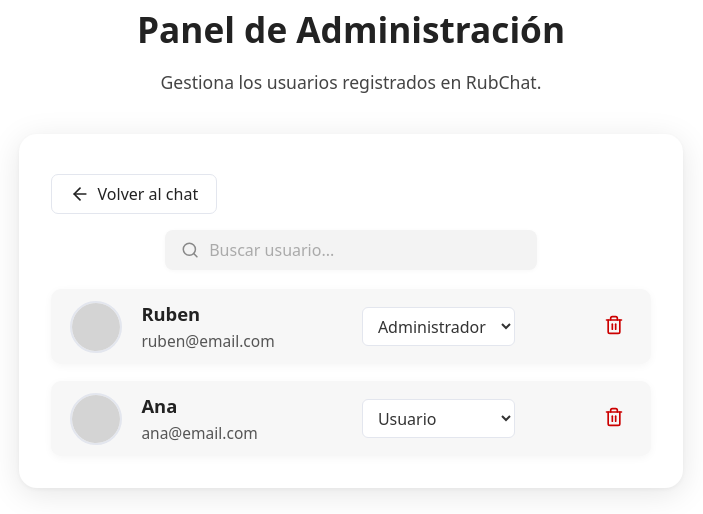
Test: AdminPage › filtra usuarios por nombre y muestra mensaje si no hay resultados
Expected: the text "Ruben" is shown, [141,302,200,326]
Type "ana" into the field with placeholder "Buscar usuario...".
click(364, 250); type("ana")  # box [207,238,521,262]
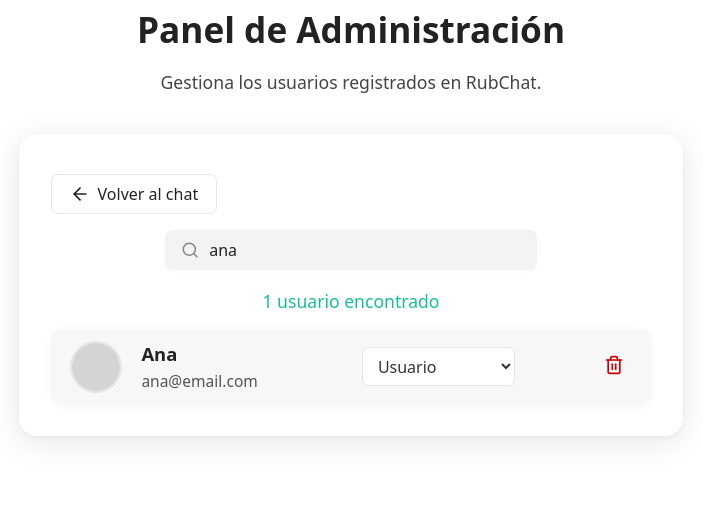
Expected: the text "Ana" is shown, [141,342,177,366]
Expected: the text "1 usuario encontrado" is shown, [262,289,440,313]
Expected: the text "Ruben" is gone
Replace the text in the field with placeholder "Buscar usuario..." with "noexiste" at (364, 250), box [207,238,521,262]
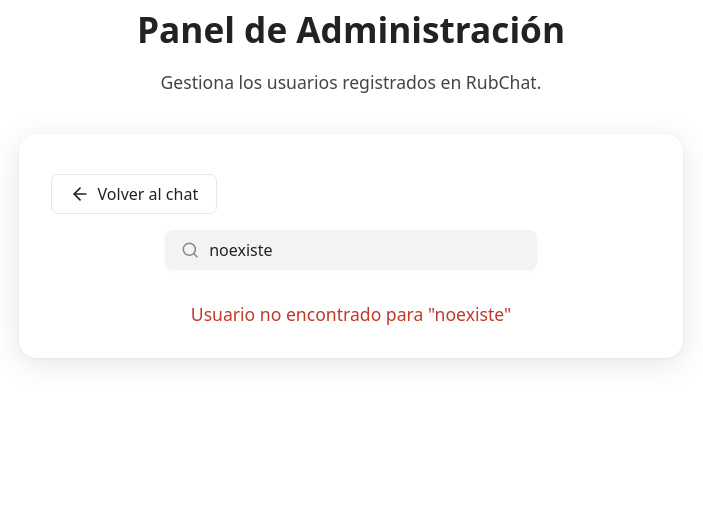
Expected: the text "Usuario no encontrado para \"noexiste\"" is shown, [191,302,511,326]
